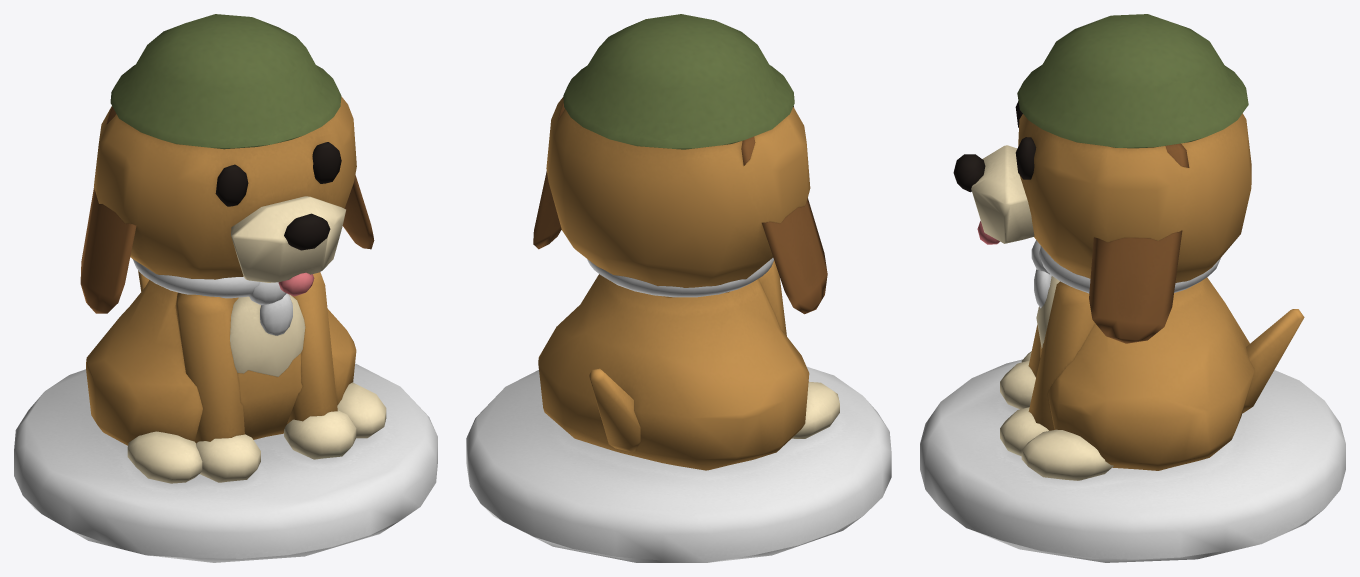
3 views of the same model, side by side, from view 1: azimuth 30°, elevation 25°; view 2: azimuth 150°, elevation 25°; view 3: azimuth 270°, elevation 25° (orthographic).
Visible parts, largest first — view 1: TeamColor_Base, Head, Helmet, Body, Leg_Front_R, Muzzle, Ear_R, Leg_Front_L, Belly, TeamColor_Scarf, Paw_Hind_R, Paw_Front_L (+7 smaller); view 2: TeamColor_Base, Body, Head, Helmet, Ear_R, Tail, TeamColor_Scarf, Paw_Hind_R, Ear_L, Leg_Front_R; view 3: TeamColor_Base, Body, Head, Helmet, Ear_L, Leg_Front_L, Muzzle, Paw_Hind_L, Tail, TeamColor_Scarf, Paw_Front_L, Paw_Front_R (+3 smaller).
Part boxes in pixels (left/top/right/bottom): TeamColor_Base: left=14, top=363, right=437, bottom=562; Head: left=94, top=96, right=356, bottom=279; Helmet: left=110, top=14, right=341, bottom=149; Body: left=86, top=280, right=356, bottom=445; Leg_Front_R: left=175, top=292, right=244, bottom=443; Muzzle: left=231, top=196, right=345, bottom=282; Ear_R: left=80, top=107, right=136, bottom=313; Leg_Front_L: left=287, top=272, right=337, bottom=423; Belly: left=230, top=294, right=305, bottom=376; TeamColor_Scarf: left=133, top=259, right=292, bottom=335; Paw_Hind_R: left=127, top=431, right=202, bottom=483; Paw_Front_L: left=284, top=410, right=356, bottom=459; TeamColor_Base: left=466, top=367, right=891, bottom=562; Body: left=538, top=274, right=809, bottom=470; Head: left=546, top=97, right=810, bottom=297; Helmet: left=563, top=14, right=794, bottom=149; Ear_R: left=741, top=136, right=827, bottom=314; Tail: left=589, top=368, right=640, bottom=452; TeamColor_Scarf: left=587, top=258, right=773, bottom=297; Paw_Hind_R: left=792, top=382, right=839, bottom=438; Ear_L: left=533, top=103, right=564, bottom=249; Leg_Front_R: left=758, top=260, right=786, bottom=335; TeamColor_Base: left=920, top=359, right=1345, bottom=562; Body: left=1040, top=277, right=1254, bottom=470; Head: left=1018, top=113, right=1251, bottom=282; Helmet: left=1017, top=14, right=1248, bottom=148; Ear_L: left=1089, top=143, right=1189, bottom=343; Leg_Front_L: left=1028, top=281, right=1094, bottom=430; Muzzle: left=971, top=145, right=1034, bottom=243; Paw_Hind_L: left=1021, top=429, right=1113, bottom=480; Tail: left=1242, top=309, right=1304, bottom=413; TeamColor_Scarf: left=1031, top=240, right=1220, bottom=308; Paw_Front_L: left=1000, top=407, right=1048, bottom=456; Paw_Front_R: left=1000, top=360, right=1035, bottom=409.
Bounding box in the file's own units: 0.0419 × 0.0487 × 0.0419.
Materials: 1 (1 with a texture image).
